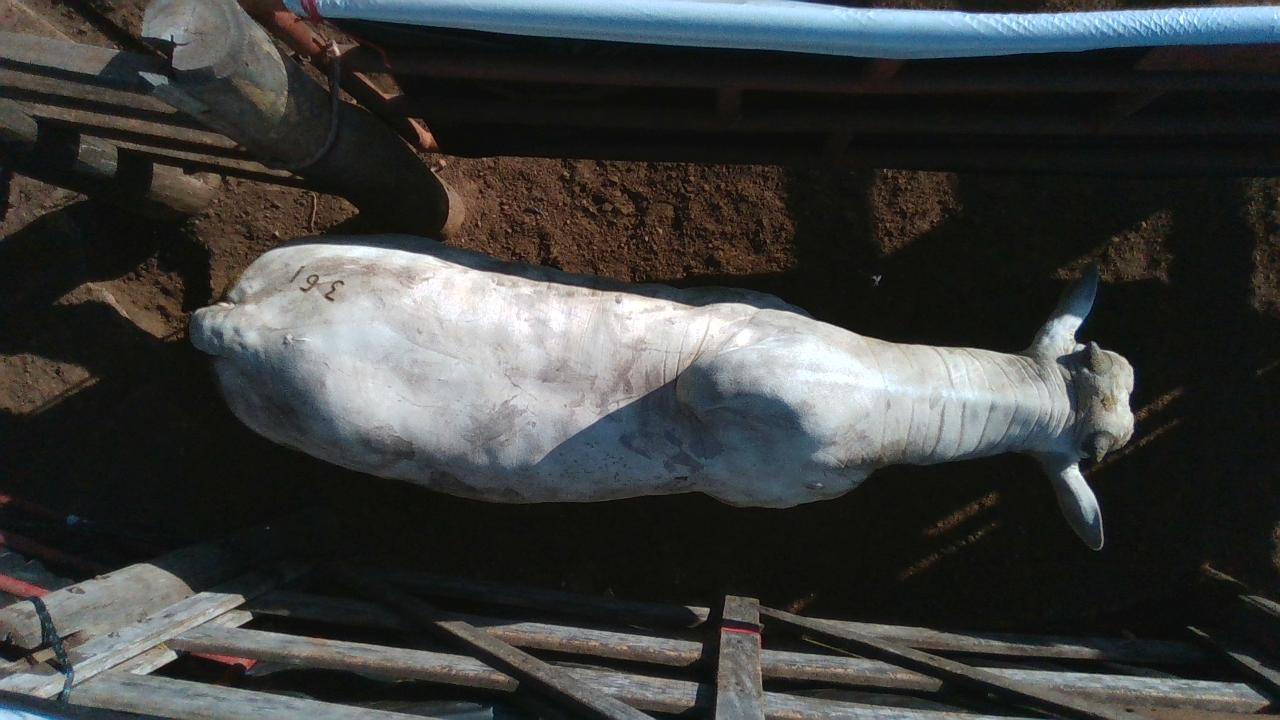cattle: (187, 230, 1137, 551)
